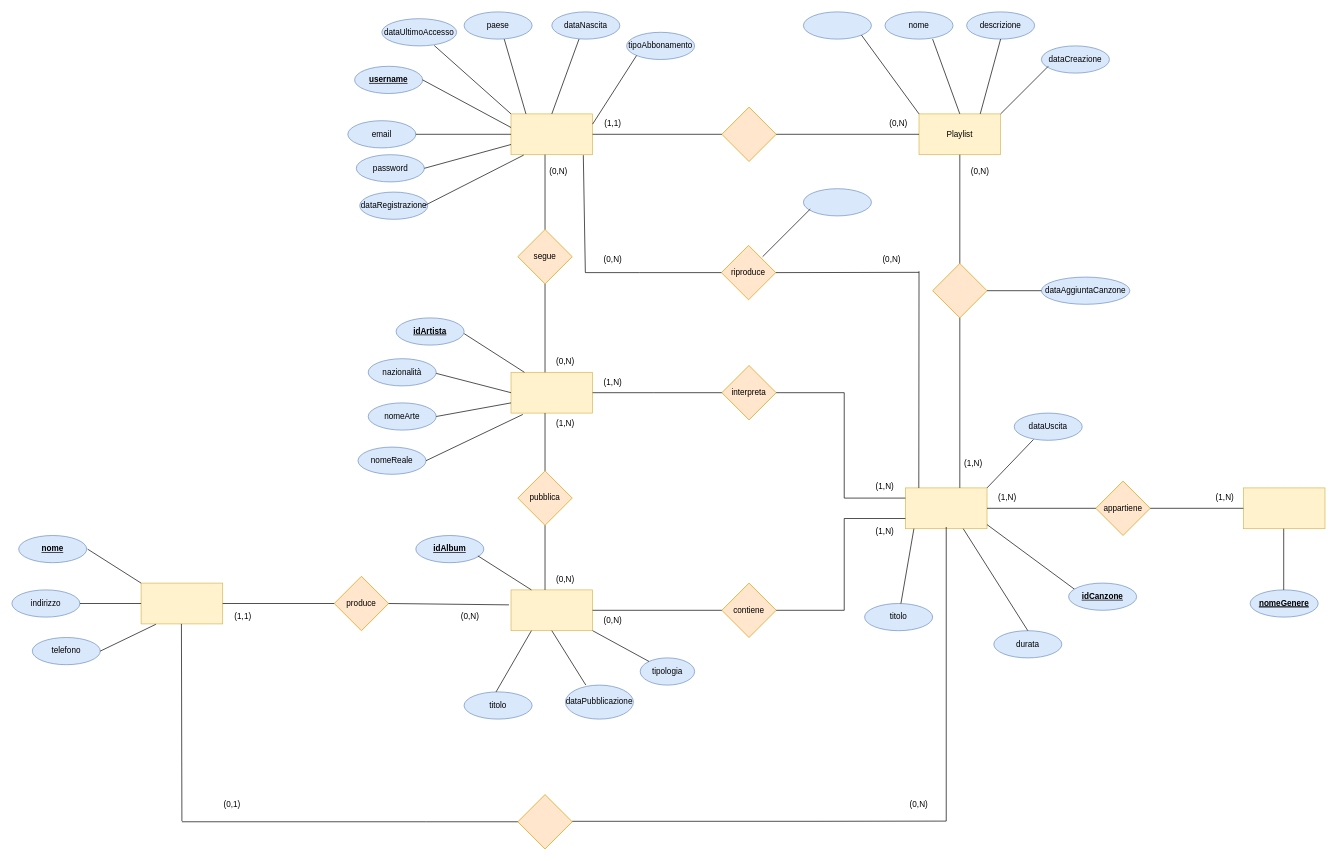
Some shapes in this 1337 by 861 pixel diagram are drawn without their labels. Each missing label, with the centre of its shape:
"Album" belongs at (x=551, y=610).
"Artista" belongs at (x=551, y=392).
"Canzone" belongs at (x=946, y=508).
"Casa Discografica" belongs at (x=181, y=603).
"crea" belongs at (x=748, y=134).
"dataRiproduzione" belongs at (x=837, y=202).
"distribuisce" belongs at (x=544, y=821).
"Genere" belongs at (x=1284, y=508).
"idPlaylist" belongs at (x=837, y=25).
"raggruppa" belongs at (x=959, y=290).
"Utente" belongs at (x=551, y=134).
